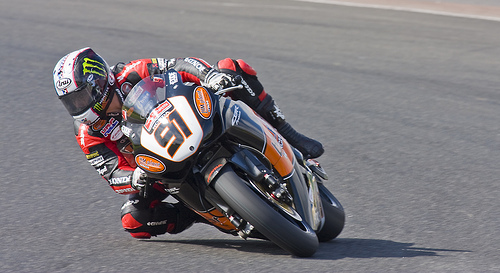helmet: (50, 50, 109, 111)
